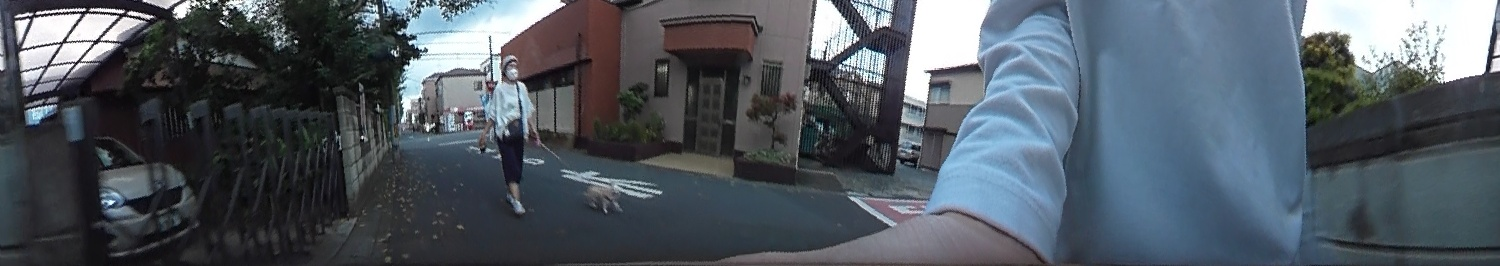person: (474, 49, 539, 218)
